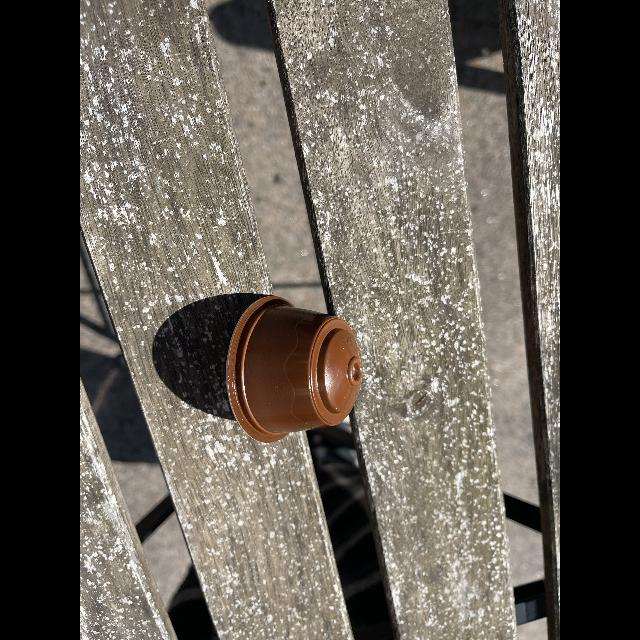intact_capsule: (209, 285, 375, 453)
